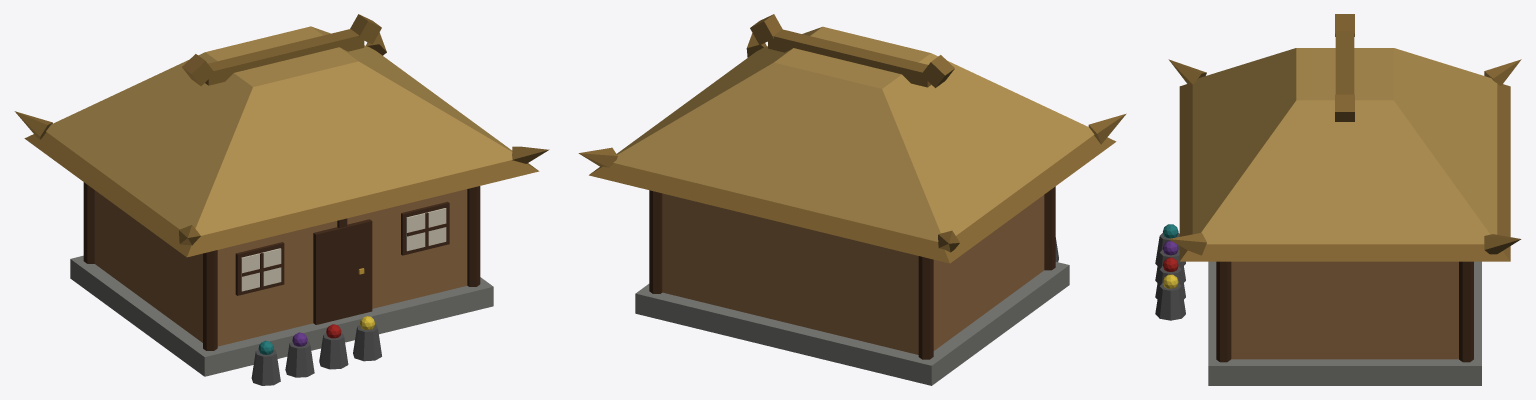
Rendered from SM_GZ_alchemy_green.fbx.
3 renders of one model, left to right at view 1: azimuth 30°, elevation 25°; view 2: azimuth 150°, elevation 25°; view 3: azimuth 270°, elevation 25°, orthographic. The views are drawn at different scales.
Visible parts, largest first — view 1: SM_GZ_alchemy_green; view 2: SM_GZ_alchemy_green; view 3: SM_GZ_alchemy_green.
Part boxes in pixels (<box>): SM_GZ_alchemy_green: <box>14,14,549,385</box>; SM_GZ_alchemy_green: <box>578,14,1126,385</box>; SM_GZ_alchemy_green: <box>1155,14,1521,385</box>.
Bounding box in the file's own units: 964 × 649 × 830.
